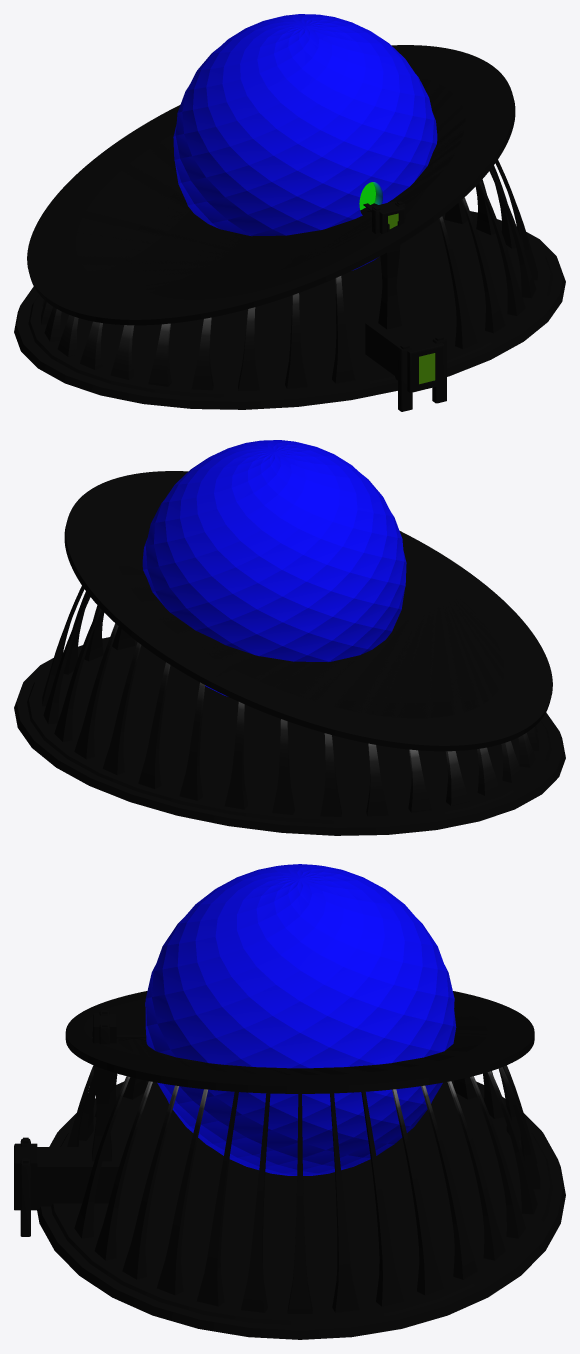
File: PerisphereHoudini.fbx
3 views of the same model, one above another, from view 1: azimuth 30°, elevation 25°; view 2: azimuth 150°, elevation 25°; view 3: azimuth 270°, elevation 25° (orthographic). The views are drawn at different scales.
Visible parts, largest first — view 1: delete6; view 2: delete6; view 3: delete6.
Part boxes in pixels (x1,y1,x2,y2): delete6: (14, 14, 565, 411); delete6: (14, 440, 565, 835); delete6: (14, 864, 565, 1339).
Bounding box in the file's own units: 438 × 244 × 353.
